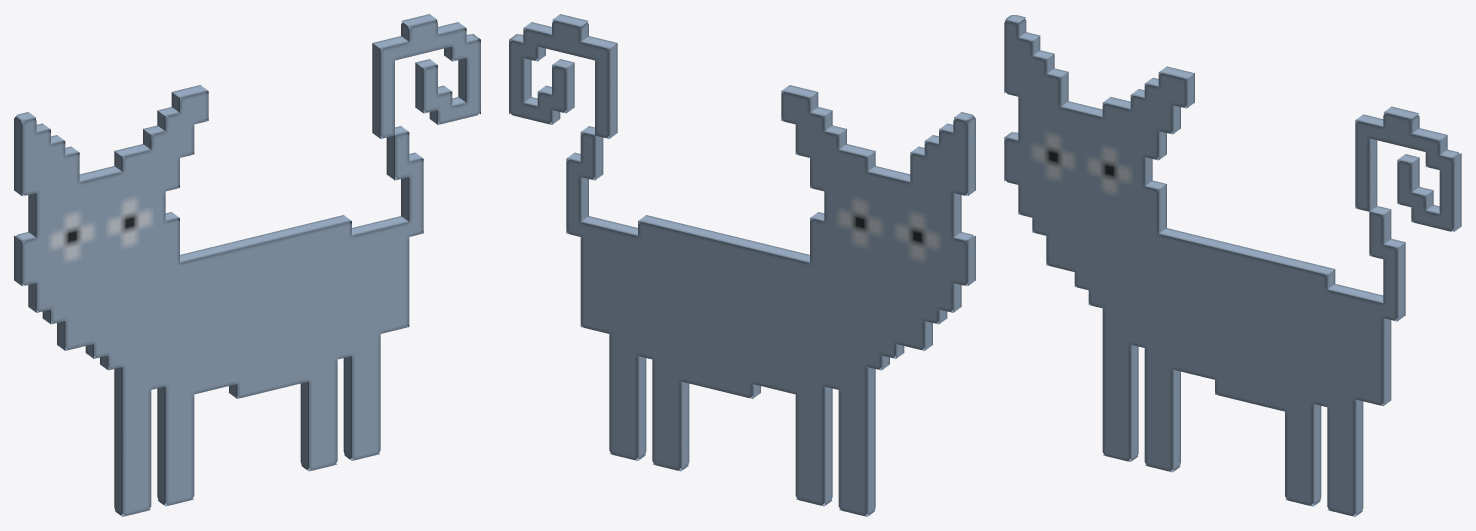
File: cat7G.fbx
The picture shows the model from 3 angles, left to right: view 1: azimuth 30°, elevation 25°; view 2: azimuth 150°, elevation 25°; view 3: azimuth 330°, elevation 25°; orthographic projection. The views are drawn at different scales.
Visible parts, largest first — view 1: generated; view 2: generated; view 3: generated.
Boxes of the visible parts, bbox=[...] form: generated: bbox=[14, 14, 480, 516]; generated: bbox=[509, 14, 975, 516]; generated: bbox=[1004, 15, 1461, 516].
Bounding box in the file's own units: 320 × 280 × 10.
